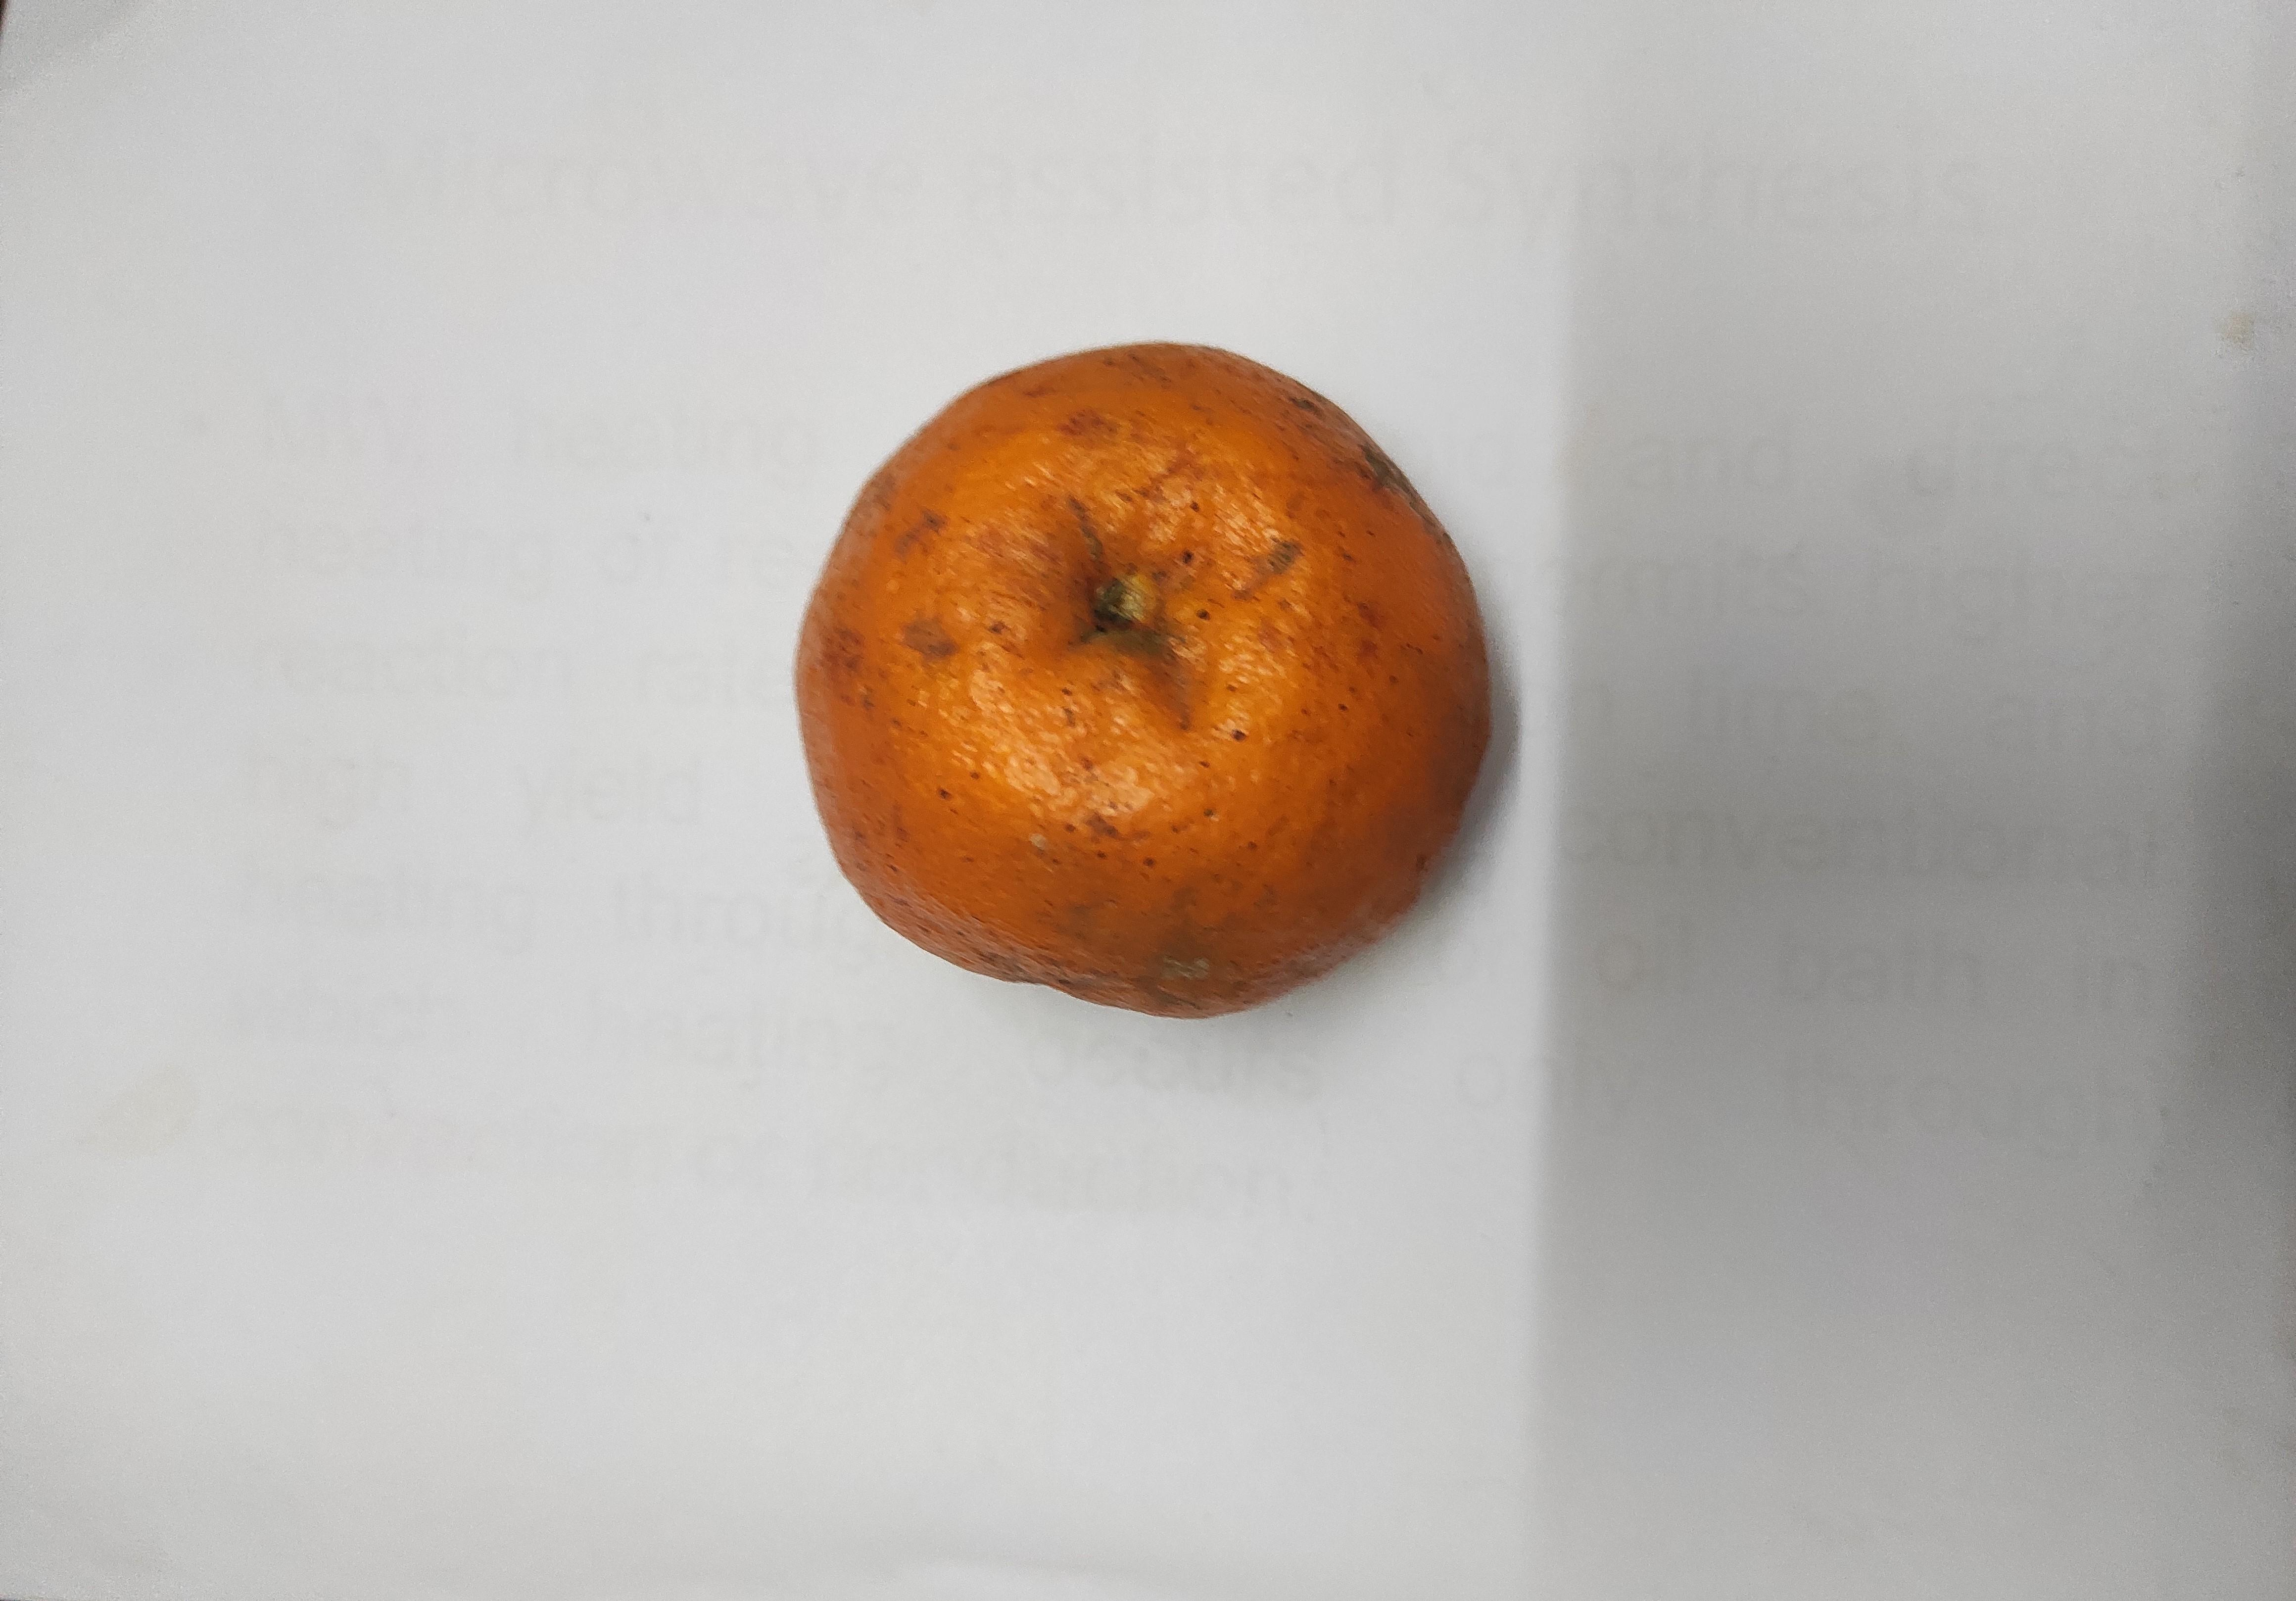Unripe: (801, 351, 1439, 980)
